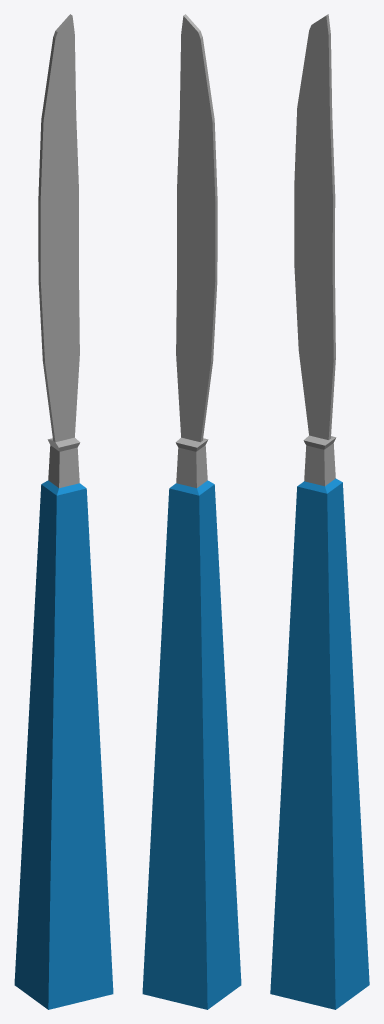
File: Knife.fbx
3 renders of one model, left to right at view 1: azimuth 30°, elevation 25°; view 2: azimuth 150°, elevation 25°; view 3: azimuth 330°, elevation 25°, orthographic.
Visible parts, largest first — view 1: Knife; view 2: Knife; view 3: Knife.
Part boxes in pixels (left/top/right/bottom): Knife: left=14, top=14, right=113, bottom=1009; Knife: left=142, top=14, right=241, bottom=1009; Knife: left=270, top=14, right=369, bottom=1009.
Size of the model in its own units: 31.82 by 456 by 28.69.
